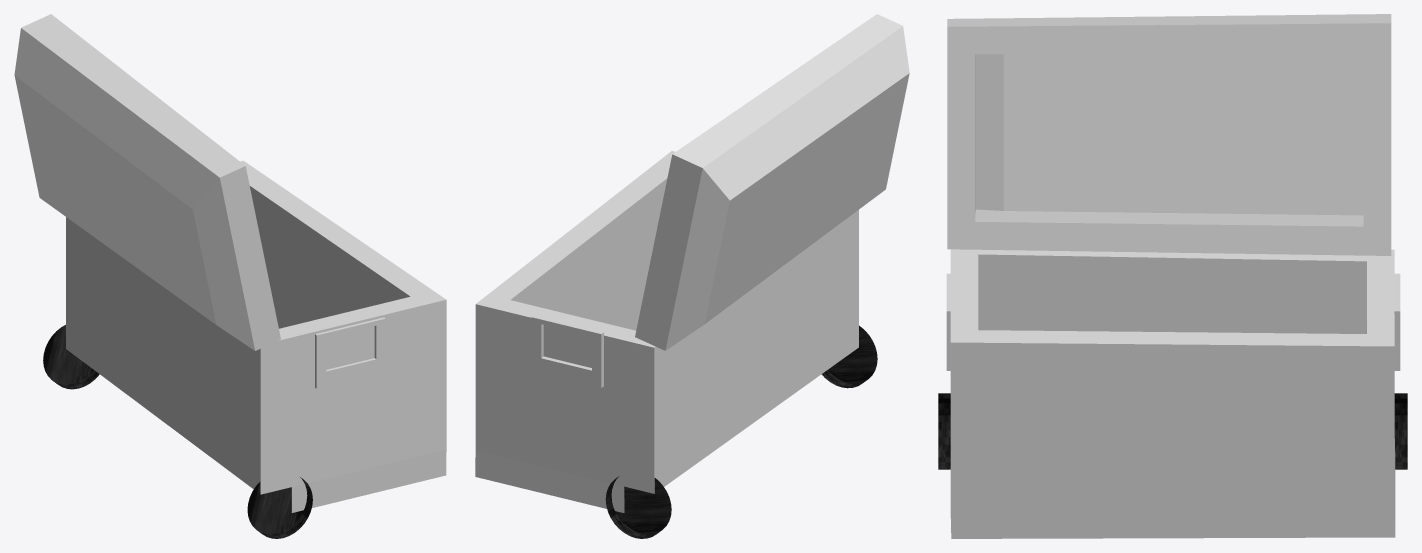
Rendered from Cooler.fbx.
3 views of the same model, side by side, from view 1: azimuth 30°, elevation 25°; view 2: azimuth 150°, elevation 25°; view 3: azimuth 270°, elevation 25° (orthographic). The views are drawn at different scales.
Visible parts, largest first — view 1: Cube; view 2: Cube; view 3: Cube.
Boxes of the visible parts, left/top/right/bottom form: Cube: left=14, top=14, right=446, bottom=538; Cube: left=475, top=14, right=909, bottom=538; Cube: left=938, top=14, right=1407, bottom=538.
Size of the model in its own units: 83.69 by 125 by 125.
